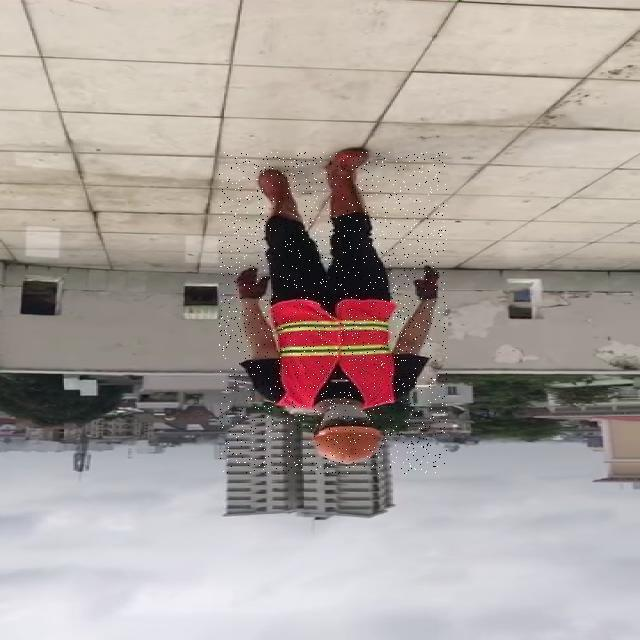gloves: (233, 263, 271, 304), (411, 263, 445, 304)
